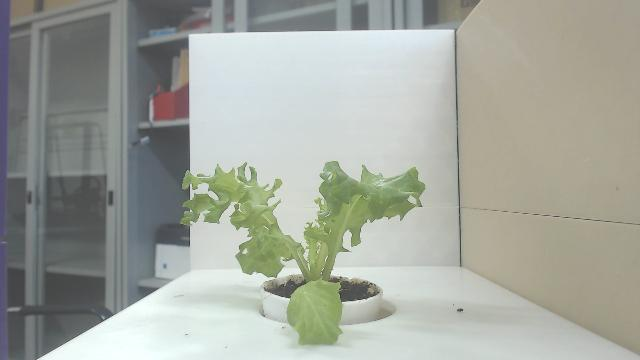Vegetative Stage: (180, 161, 428, 347)
